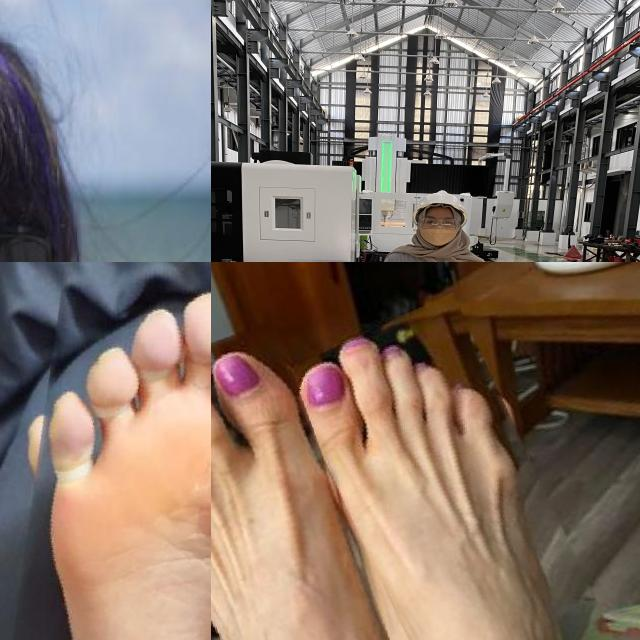Barefoots: (305, 299, 571, 640), (36, 262, 211, 640), (211, 351, 386, 640)
face_mask: (417, 212, 460, 248)
glasses: (416, 214, 461, 228)
head_helmet: (413, 189, 470, 213)
head_nohelmet: (0, 41, 81, 172)
person: (0, 30, 169, 262), (340, 186, 529, 262)
